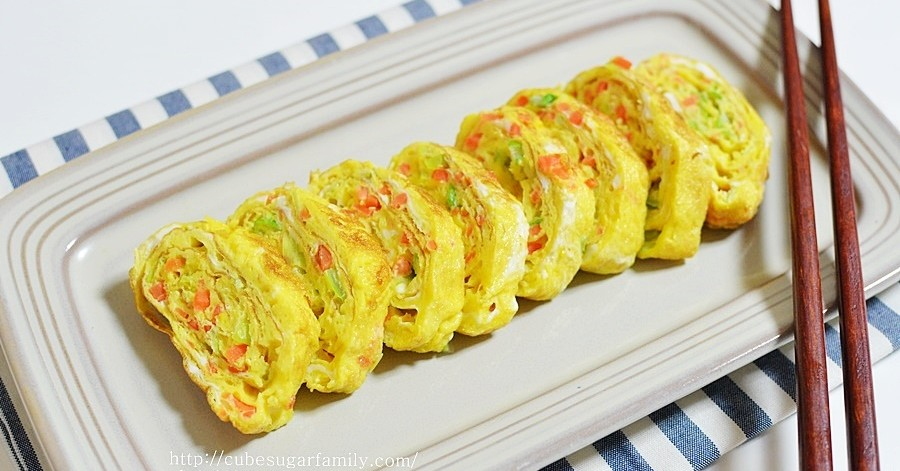gyelanmal-i: (125, 48, 781, 448)
